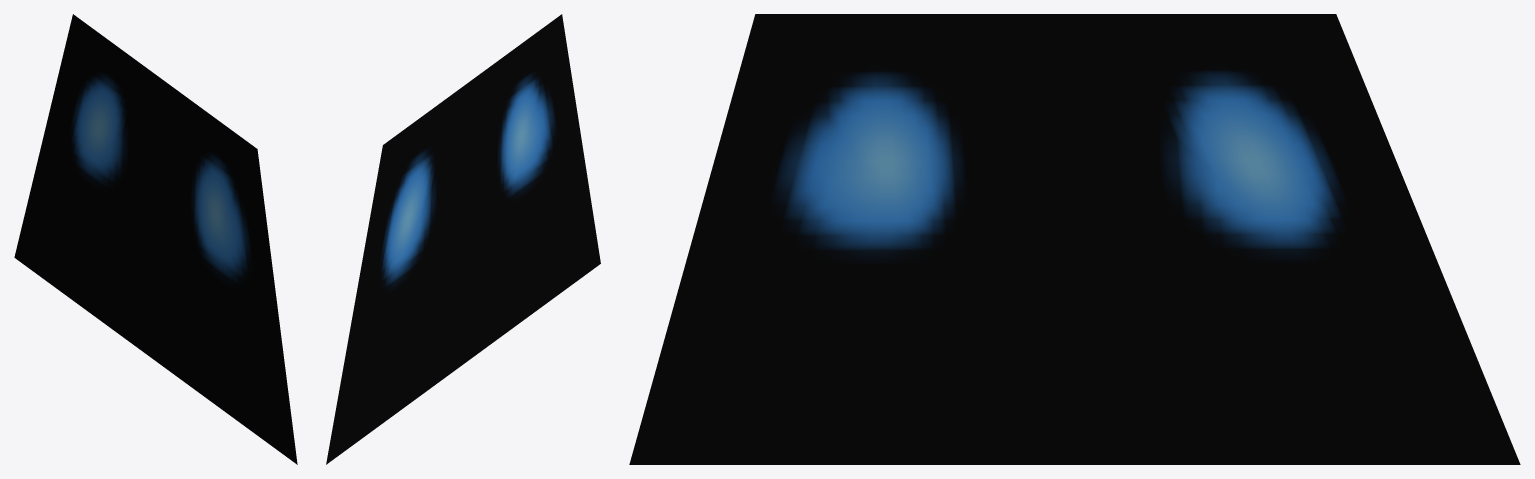
The model's file is Regular_Eyes.fbx.
3 renders of one model, left to right at view 1: azimuth 30°, elevation 25°; view 2: azimuth 150°, elevation 25°; view 3: azimuth 270°, elevation 25°, orthographic. The views are drawn at different scales.
Visible parts, largest first — view 1: Regular_Eyes; view 2: Regular_Eyes; view 3: Regular_Eyes.
Boxes of the visible parts, x1,y1,x2,y2 form: Regular_Eyes: [14, 14, 297, 464]; Regular_Eyes: [326, 14, 600, 464]; Regular_Eyes: [629, 14, 1520, 464].
Size of the model in its own units: 2.84e-14 by 83.74 by 150.
Materials: 1 (1 with a texture image).
